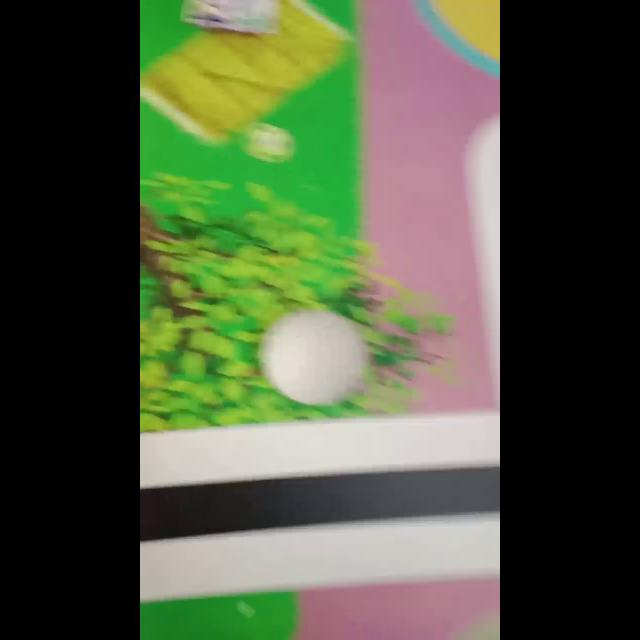white ball: (258, 308, 372, 406)
